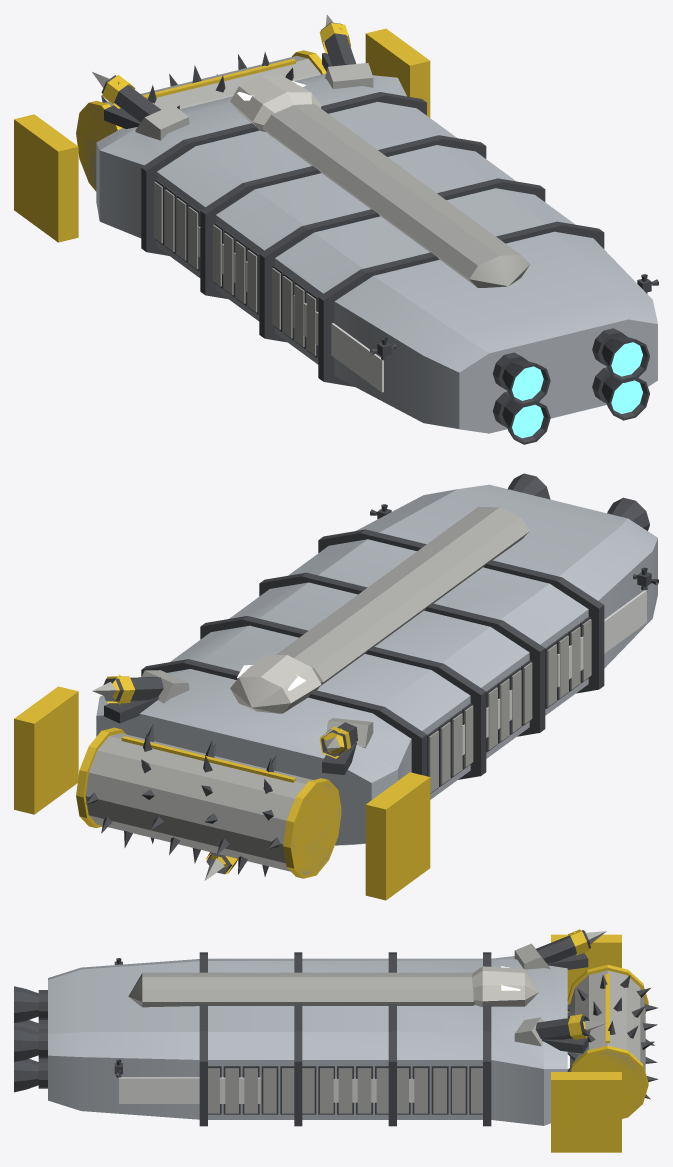
Rendered from strip_miner.glb.
3 renders of one model, top to bottom at view 1: azimuth 30°, elevation 25°; view 2: azimuth 150°, elevation 25°; view 3: azimuth 270°, elevation 25°, orthographic. The views are drawn at different scales.
Parts seen in each view (by area): view 1: Hull, Rotor_Drum; view 2: Hull, Rotor_Drum; view 3: Hull, Rotor_Drum.
Boxes of the visible parts, bbox=[...] form: Hull: bbox=[14, 22, 658, 444]; Rotor_Drum: bbox=[76, 50, 326, 191]; Hull: bbox=[14, 473, 658, 900]; Rotor_Drum: bbox=[76, 724, 341, 878]; Hull: bbox=[14, 929, 621, 1152]; Rotor_Drum: bbox=[567, 964, 658, 1118].
Size of the model in its own units: 1.07 by 0.4637 by 2.
